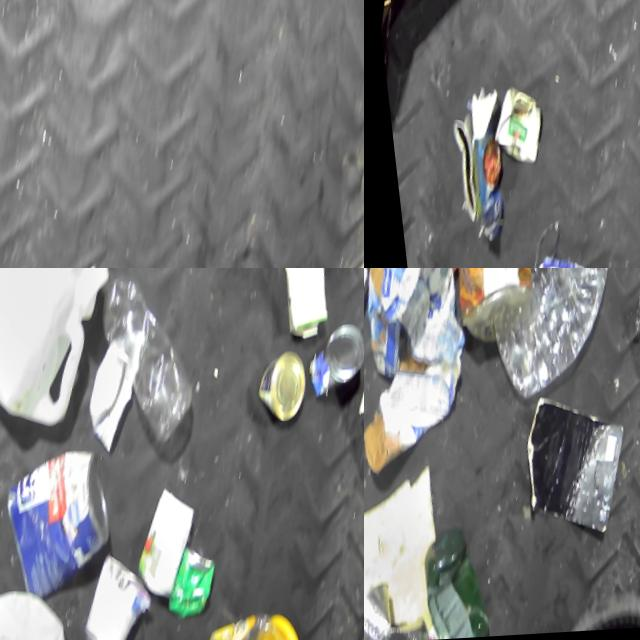can: (0, 435, 121, 611), (418, 106, 514, 244), (290, 320, 364, 414), (471, 80, 542, 165), (239, 349, 307, 432), (147, 543, 210, 629)
milk_jug: (0, 268, 154, 441), (0, 575, 71, 640)
plastic_bottle: (65, 269, 214, 455), (162, 597, 299, 640)
